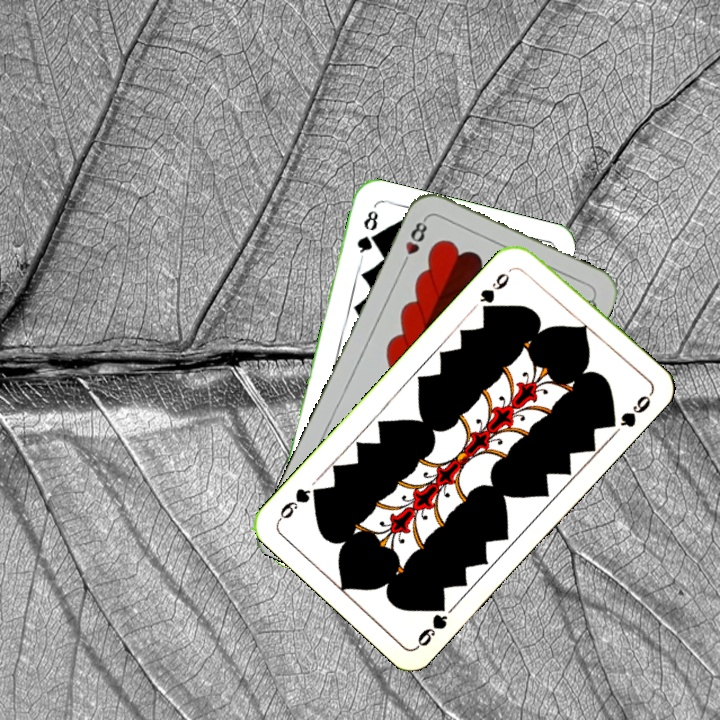G8: (353, 206, 381, 262)
G9: (413, 596, 451, 651), (475, 268, 512, 316)
H8: (398, 214, 430, 270)
